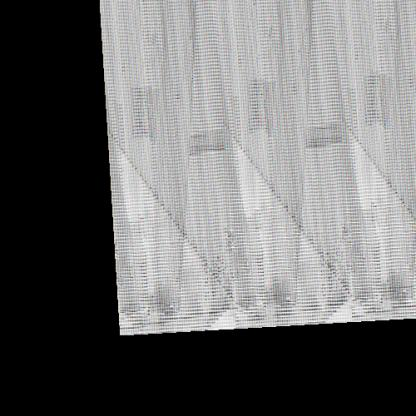Damage: (124, 273, 307, 327)
